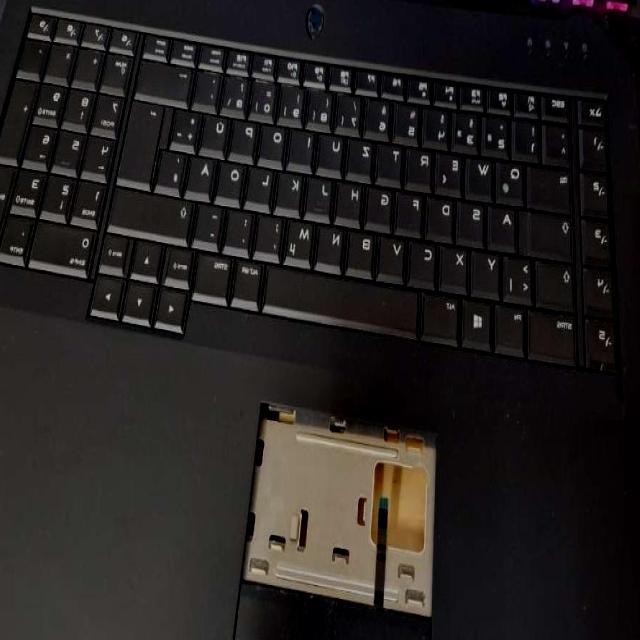0: (251, 74, 280, 119)
1: (512, 118, 541, 162)
2: (484, 113, 512, 155)
3: (454, 109, 482, 153)
4: (426, 105, 452, 146)
5: (395, 101, 423, 143)
6: (366, 95, 394, 139)
7: (338, 91, 366, 133)
8: (309, 86, 337, 130)
9: (280, 81, 310, 125)
a: (489, 203, 519, 251)
accent: (194, 67, 224, 111)
ae: (187, 154, 220, 199)
alt-left: (424, 292, 460, 343)
altgr-right: (231, 259, 265, 313)
b: (347, 228, 379, 276)
c: (410, 238, 440, 288)
caret: (542, 123, 572, 165)
comma: (256, 211, 288, 261)
d: (428, 194, 456, 242)
del: (137, 58, 195, 106)
e: (437, 149, 465, 195)
enter: (117, 98, 167, 186)
f: (395, 190, 427, 236)
g: (366, 185, 396, 231)
h: (336, 179, 367, 225)
hash: (156, 149, 191, 194)
i: (290, 127, 318, 171)
j: (307, 173, 337, 221)
k: (276, 169, 306, 215)
keyboard: (0, 4, 622, 376)
l: (245, 164, 277, 212)
less: (506, 254, 536, 304)
m: (287, 218, 317, 264)
minus: (194, 201, 228, 249)
n: (316, 223, 348, 271)
o: (260, 122, 290, 166)
oe: (216, 159, 248, 204)
p: (233, 116, 261, 160)
plus: (172, 106, 204, 150)
point: (225, 206, 258, 256)
q: (498, 157, 528, 205)
r: (408, 146, 436, 190)
s: (458, 199, 488, 245)
shift-left: (537, 260, 577, 308)
shift-lock: (518, 209, 576, 259)
shift-right: (109, 186, 197, 242)
space: (265, 264, 421, 340)
ss: (222, 72, 252, 116)
strg-left: (528, 310, 577, 361)
strg-right: (194, 254, 235, 308)
t: (378, 140, 406, 184)
tab: (528, 164, 574, 212)
u: (319, 132, 348, 176)
ue: (202, 111, 233, 155)
v: (379, 235, 408, 283)
w: (467, 155, 495, 200)
x: (440, 244, 471, 292)
y: (473, 250, 503, 298)
z: (348, 136, 376, 182)
